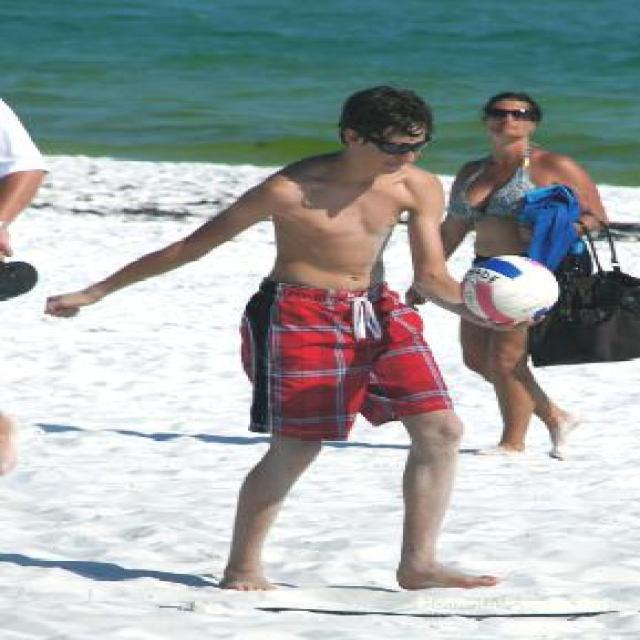volleyball: (460, 254, 559, 326)
